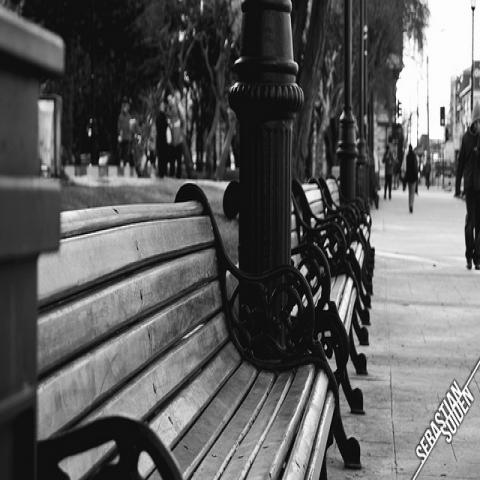car: (436, 166, 454, 178)
